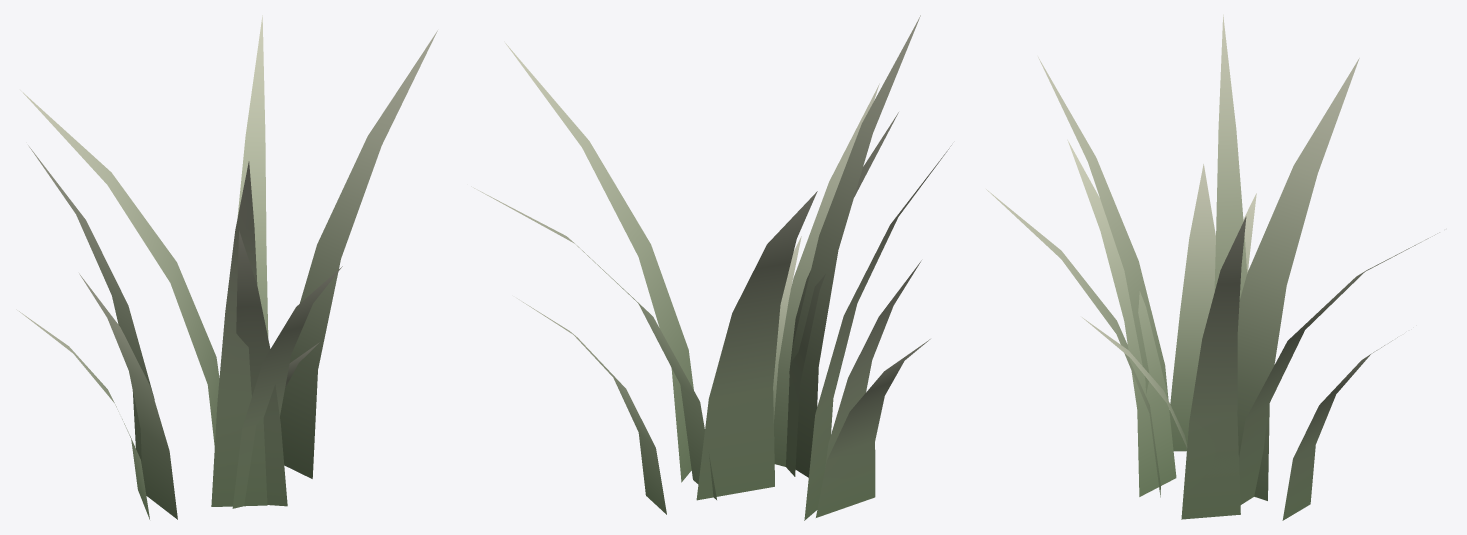
The model's file is f_grass0.glb.
3 renders of one model, left to right at view 1: azimuth 30°, elevation 25°; view 2: azimuth 150°, elevation 25°; view 3: azimuth 270°, elevation 25°, orthographic. The views are drawn at different scales.
Parts seen in each view (by area): view 1: grass0; view 2: grass0; view 3: grass0.
Part boxes in pixels (x1,y1,x2,y2): grass0: (16,15,437,519); grass0: (471,15,951,520); grass0: (986,14,1439,520).
Bounding box in the file's own units: 0.7114 × 0.6519 × 0.6942.
